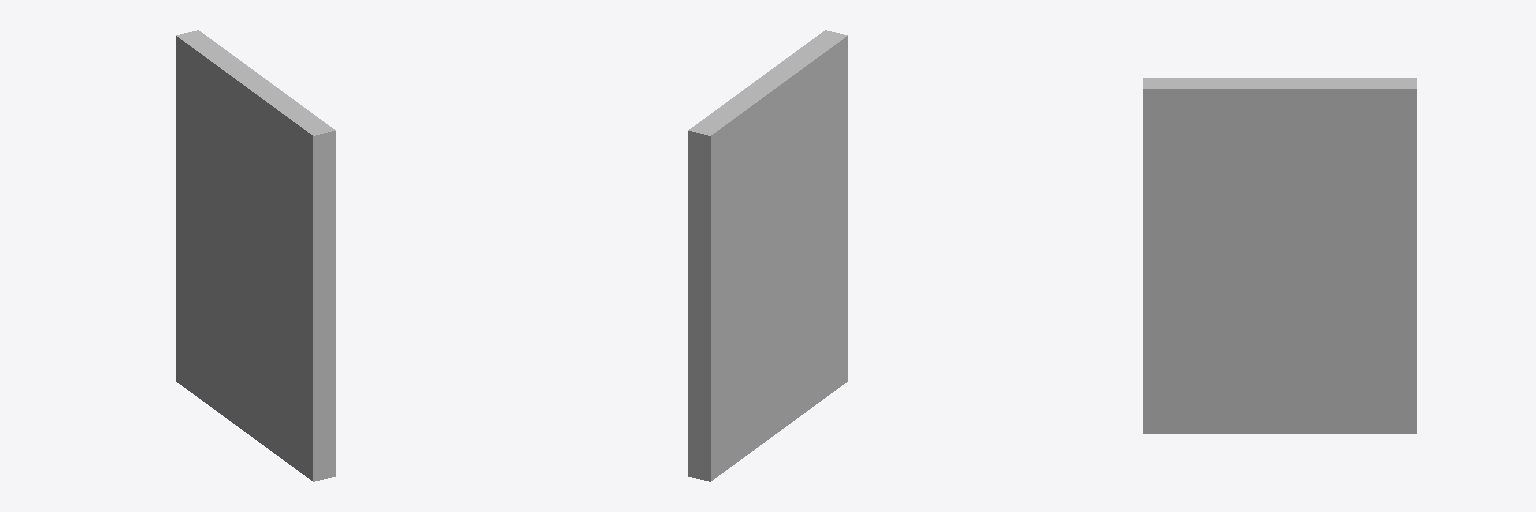
The model's file is Pared_Ventana.obj.
3 views of the same model, side by side, from view 1: azimuth 30°, elevation 25°; view 2: azimuth 150°, elevation 25°; view 3: azimuth 270°, elevation 25° (orthographic).
Visible parts, largest first — view 1: Cube.110; view 2: Cube.110; view 3: Cube.110.
Part boxes in pixels (left/top/right/bottom): Cube.110: left=176, top=30, right=335, bottom=481; Cube.110: left=688, top=30, right=847, bottom=481; Cube.110: left=1143, top=78, right=1416, bottom=433.
Bounding box in the file's own units: 0.3415 × 4.99 × 3.59.